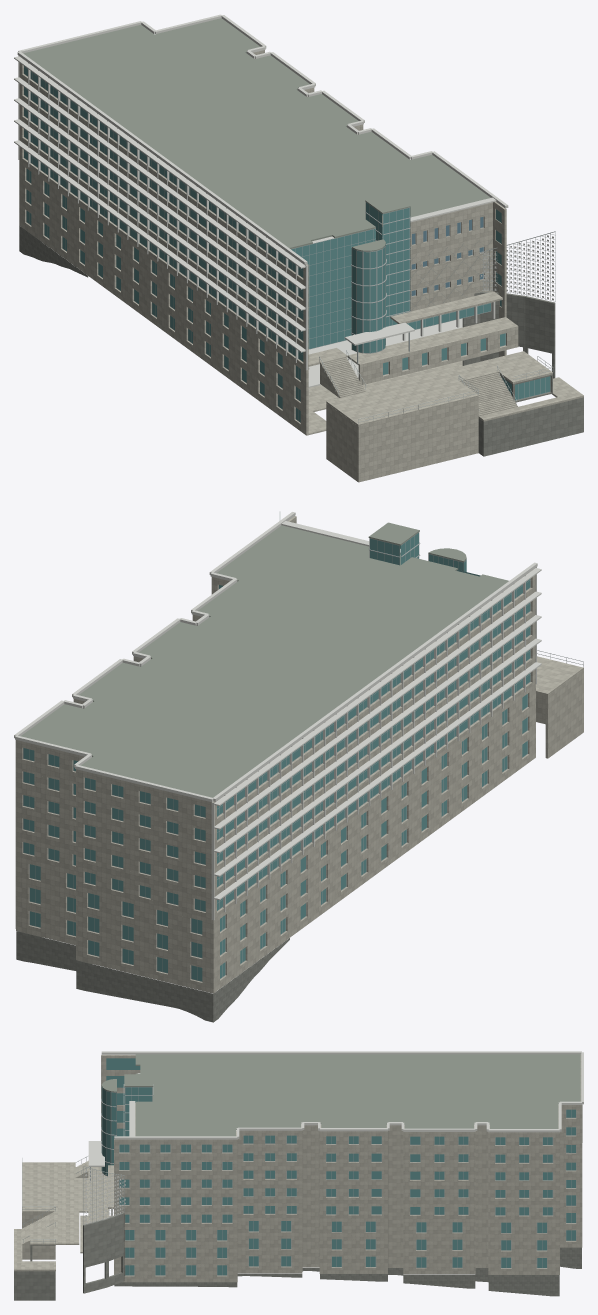
3 views of the same model, one above another, from view 1: azimuth 30°, elevation 25°; view 2: azimuth 150°, elevation 25°; view 3: azimuth 270°, elevation 25° (orthographic). The views are drawn at different scales.
Visible parts, largest first — view 1: arts__paleStone, arts__roofTop, arts__tealglass, arts__lightTrim, arts__silverFrame, arts__darkStone, arts__terrace-1, arts__terrace-2, arts__stair-east-court, arts__stair-west-terrace, arts__terrace-0, arts__foundationSkirt (+1 smaller); view 2: arts__paleStone, arts__roofTop, arts__lightTrim, arts__tealglass, arts__silverFrame, arts__foundationSkirt, arts__terrace-1; view 3: arts__paleStone, arts__roofTop, arts__tealglass, arts__silverFrame, arts__lightTrim, arts__foundationSkirt, arts__terrace-1, arts__darkStone, arts__terrace-2, arts__terrace-0, arts__stair-east-court.
Part boxes in pixels (left/top/right/bottom): arts__paleStone: left=19, top=50, right=518, bottom=482; arts__roofTop: left=23, top=18, right=490, bottom=251; arts__tealglass: left=24, top=66, right=550, bottom=422; arts__lightTrim: left=14, top=14, right=553, bottom=390; arts__silverFrame: left=24, top=67, right=555, bottom=424; arts__darkStone: left=462, top=291, right=583, bottom=456; arts__terrace-1: left=326, top=351, right=552, bottom=426; arts__terrace-2: left=308, top=317, right=518, bottom=366; arts__stair-east-court: left=459, top=371, right=517, bottom=416; arts__stair-west-terrace: left=320, top=356, right=365, bottom=397; arts__terrace-0: left=478, top=377, right=583, bottom=421; arts__foundationSkirt: left=19, top=226, right=88, bottom=277; arts__paleStone: left=15, top=516, right=583, bottom=993; arts__roofTop: left=21, top=522, right=508, bottom=797; arts__lightTrim: left=14, top=512, right=541, bottom=920; arts__tealglass: left=23, top=533, right=530, bottom=981; arts__silverFrame: left=23, top=511, right=583, bottom=981; arts__foundationSkirt: left=16, top=931, right=289, bottom=1022; arts__terrace-1: left=536, top=656, right=583, bottom=695; arts__paleStone: left=22, top=1055, right=582, bottom=1282; arts__roofTop: left=101, top=1054, right=580, bottom=1136; arts__tealglass: left=101, top=1058, right=575, bottom=1275; arts__silverFrame: left=22, top=1084, right=576, bottom=1275; arts__lightTrim: left=85, top=1051, right=583, bottom=1223; arts__foundationSkirt: left=114, top=1247, right=581, bottom=1296; arts__terrace-1: left=22, top=1162, right=88, bottom=1244; arts__darkStone: left=14, top=1213, right=125, bottom=1300; arts__terrace-2: left=88, top=1167, right=109, bottom=1223; arts__terrace-0: left=14, top=1229, right=55, bottom=1271; arts__stair-east-court: left=22, top=1211, right=55, bottom=1245.
Size of the model in its own units: 46.22 by 39.25 by 112.
Materials: 9 (3 with a texture image).
